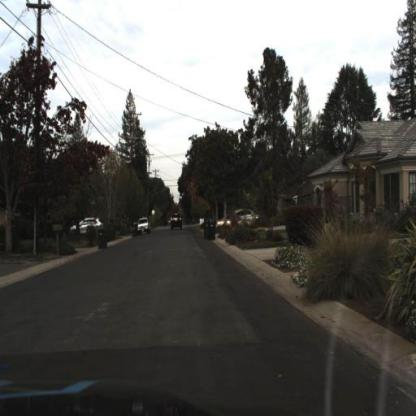car: (70, 215, 108, 243), (68, 213, 106, 238), (217, 212, 248, 237), (134, 213, 155, 235), (239, 206, 259, 225), (170, 212, 184, 233), (138, 218, 150, 235)
